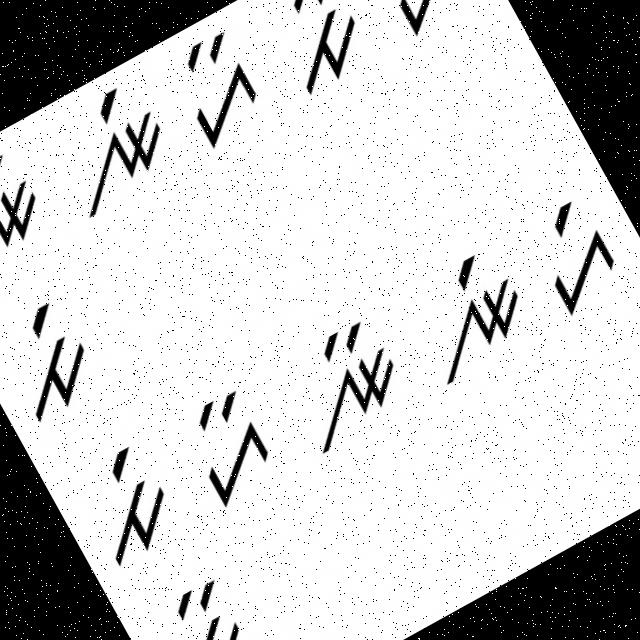han: (162, 375, 294, 515), (162, 27, 280, 156)
hang: (512, 192, 634, 324), (358, 0, 483, 50)
mban: (253, 0, 385, 106), (134, 564, 272, 639)
mbang: (63, 438, 189, 573), (0, 291, 114, 433)
ndan: (273, 308, 424, 462), (0, 144, 63, 291)
ndang: (391, 234, 546, 392), (34, 74, 190, 228)
